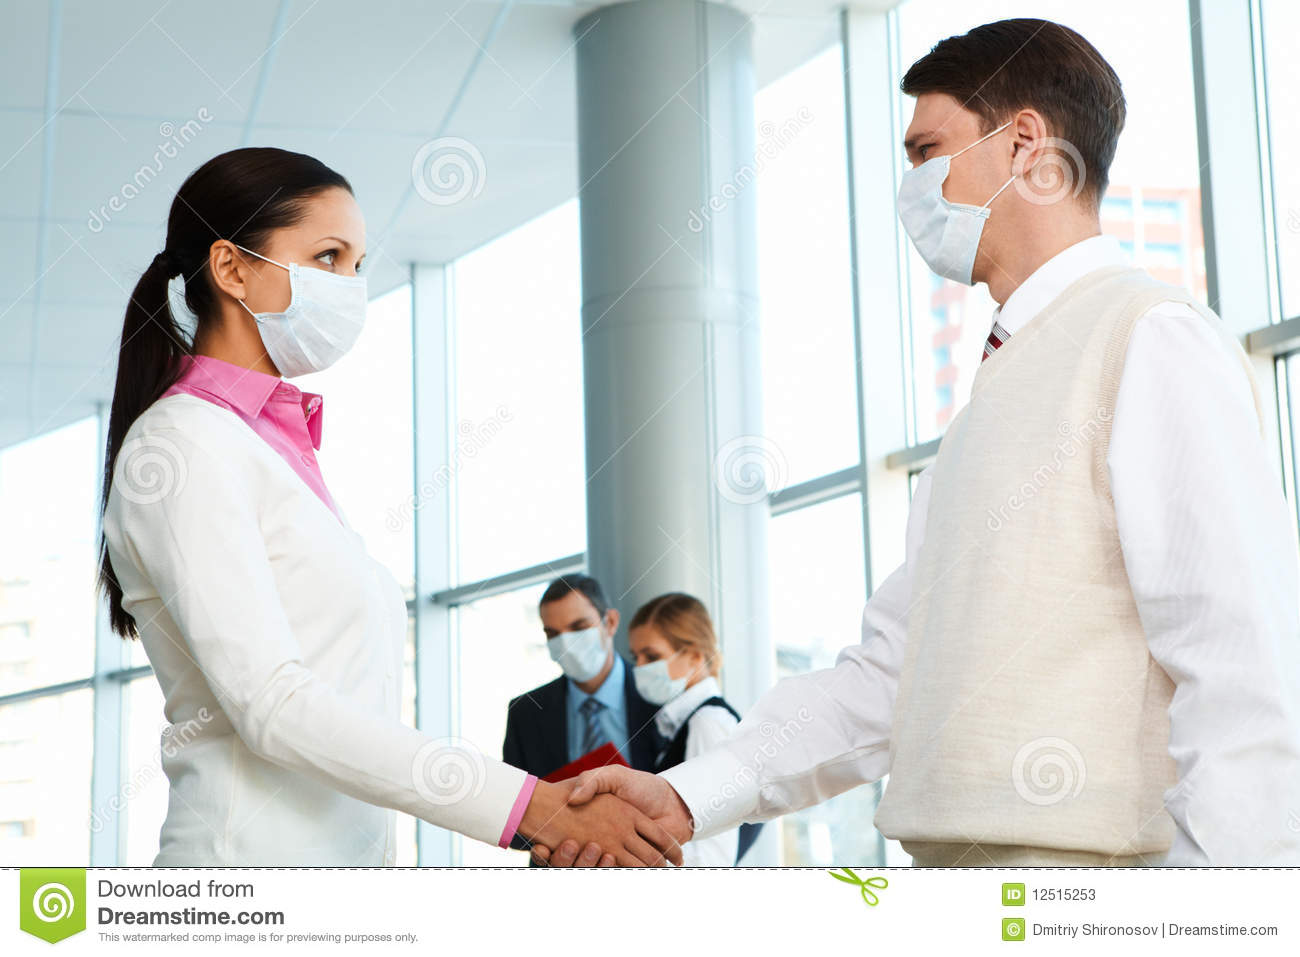mask: (894, 155, 994, 291), (251, 261, 366, 376), (544, 638, 611, 692), (626, 657, 688, 710)
